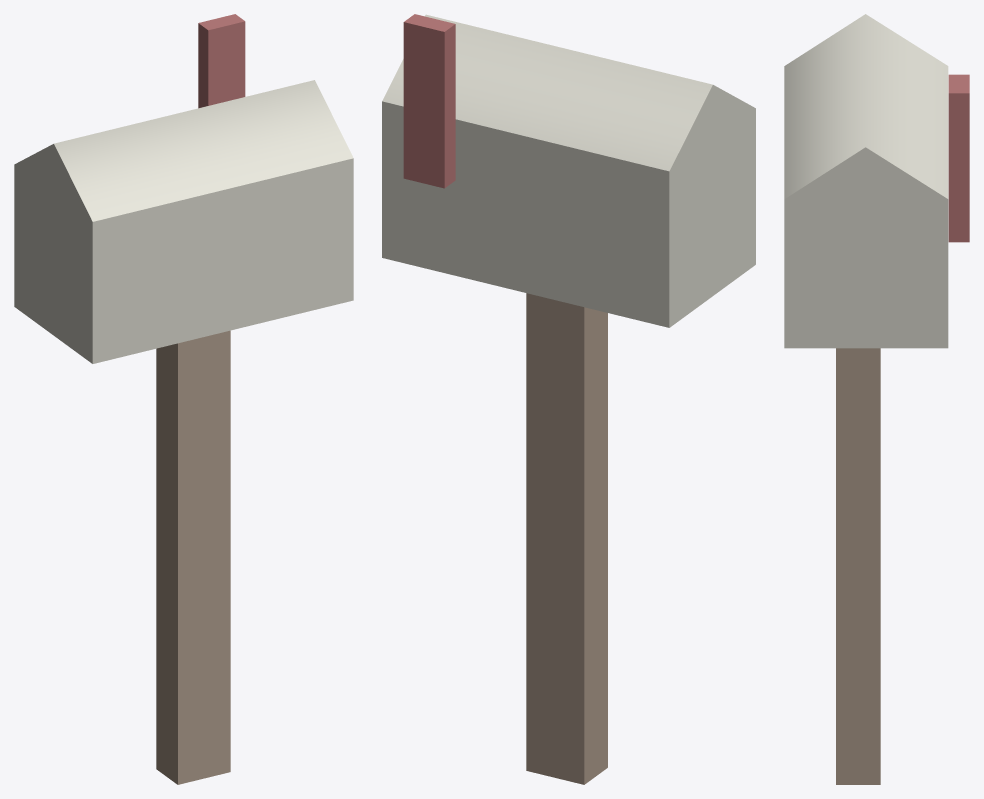
File: mailBox_cream01.fbx
The picture shows the model from 3 angles, left to right: view 1: azimuth 30°, elevation 25°; view 2: azimuth 150°, elevation 25°; view 3: azimuth 270°, elevation 25°; orthographic projection. The views are drawn at different scales.
Parts seen in each view (by area): view 1: mailBox, mailBox_stand, mailBox_flag; view 2: mailBox, mailBox_stand, mailBox_flag; view 3: mailBox, mailBox_stand, mailBox_flag.
Boxes of the visible parts, x1,y1,x2,y2 form: mailBox: (14,80,353,363); mailBox_stand: (156,330,230,784); mailBox_flag: (198,14,245,108); mailBox: (382,14,755,327); mailBox_stand: (526,293,607,784); mailBox_flag: (403,14,455,188); mailBox: (784,14,948,348); mailBox_stand: (836,348,880,784); mailBox_flag: (948,74,969,242).
Bounding box in the file's own units: 0.3195 × 0.8126 × 0.1879.
